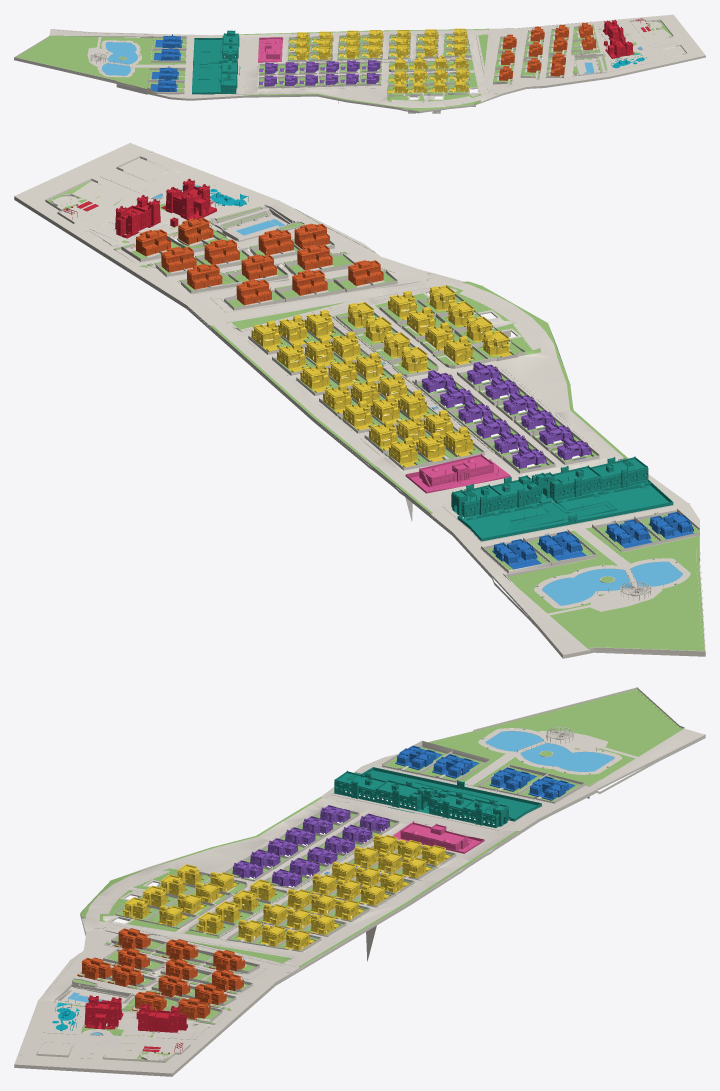
The model's file is Mirleft_AE_ZONING.glb.
3 renders of one model, top to bottom at view 1: azimuth 30°, elevation 25°; view 2: azimuth 150°, elevation 25°; view 3: azimuth 270°, elevation 25°, orthographic. The views are drawn at different scales.
Visible parts, largest first — view 1: MIRLEFT_T2_GROUND_STAIR, MIRLEFT_T1_GROUND, MIRLEFT_T4_POOL_PARK, MIRLEFT_T2_VILLAS_B, MIRLEFT_T3_HOTEL, MIRLEFT_T3_GROUND, MIRLEFT_T1_VILLAS_DUPLEX, MIRLEFT_T2_VILLAS_C, MIRLEFT_T3_VILLAS_A, MIRLEFT_T1_RESTAURANT_COMMERCES, MIRLEFT_T1_POOL_COURT, MIRLEFT_T2_SPA (+1 smaller); view 2: MIRLEFT_T2_GROUND_STAIR, MIRLEFT_T1_GROUND, MIRLEFT_T2_VILLAS_B, MIRLEFT_T4_POOL_PARK, MIRLEFT_T3_HOTEL, MIRLEFT_T1_VILLAS_DUPLEX, MIRLEFT_T2_VILLAS_C, MIRLEFT_T3_GROUND, MIRLEFT_T3_VILLAS_A, MIRLEFT_T1_RESTAURANT_COMMERCES, MIRLEFT_T2_SPA, MIRLEFT_T1_POOL_COURT; view 3: MIRLEFT_T2_GROUND_STAIR, MIRLEFT_T1_GROUND, MIRLEFT_T2_VILLAS_B, MIRLEFT_T4_POOL_PARK, MIRLEFT_T1_VILLAS_DUPLEX, MIRLEFT_T3_HOTEL, MIRLEFT_T3_GROUND, MIRLEFT_T2_VILLAS_C, MIRLEFT_T3_VILLAS_A, MIRLEFT_T1_RESTAURANT_COMMERCES, MIRLEFT_T2_SPA, MIRLEFT_T1_POOL_COURT.
Part boxes in pixels (x1=…): MIRLEFT_T2_GROUND_STAIR: x1=238, y1=28, x2=497, y2=113; MIRLEFT_T1_GROUND: x1=14, y1=14, x2=705, y2=113; MIRLEFT_T4_POOL_PARK: x1=14, y1=29, x2=153, y2=94; MIRLEFT_T2_VILLAS_B: x1=289, y1=28, x2=469, y2=93; MIRLEFT_T3_HOTEL: x1=192, y1=30, x2=240, y2=94; MIRLEFT_T3_GROUND: x1=147, y1=34, x2=247, y2=99; MIRLEFT_T1_VILLAS_DUPLEX: x1=499, y1=23, x2=596, y2=80; MIRLEFT_T2_VILLAS_C: x1=259, y1=60, x2=380, y2=86; MIRLEFT_T3_VILLAS_A: x1=150, y1=34, x2=182, y2=91; MIRLEFT_T1_RESTAURANT_COMMERCES: x1=603, y1=18, x2=650, y2=58; MIRLEFT_T1_POOL_COURT: x1=573, y1=53, x2=607, y2=75; MIRLEFT_T2_SPA: x1=258, y1=37, x2=282, y2=62; MIRLEFT_T2_GROUND_STAIR: x1=210, y1=273, x2=628, y2=521; MIRLEFT_T1_GROUND: x1=14, y1=142, x2=705, y2=658; MIRLEFT_T2_VILLAS_B: x1=251, y1=285, x2=512, y2=467; MIRLEFT_T4_POOL_PARK: x1=493, y1=535, x2=705, y2=656; MIRLEFT_T3_HOTEL: x1=451, y1=456, x2=673, y2=541; MIRLEFT_T1_VILLAS_DUPLEX: x1=131, y1=218, x2=383, y2=305; MIRLEFT_T2_VILLAS_C: x1=421, y1=362, x2=591, y2=468; MIRLEFT_T3_GROUND: x1=406, y1=474, x2=699, y2=576; MIRLEFT_T3_VILLAS_A: x1=492, y1=512, x2=693, y2=569; MIRLEFT_T1_RESTAURANT_COMMERCES: x1=61, y1=178, x2=216, y2=238; MIRLEFT_T2_SPA: x1=405, y1=453, x2=510, y2=493; MIRLEFT_T1_POOL_COURT: x1=208, y1=204, x2=304, y2=241; MIRLEFT_T2_GROUND_STAIR: x1=80, y1=797, x2=519, y2=968; MIRLEFT_T1_GROUND: x1=14, y1=736, x2=705, y2=1076; MIRLEFT_T2_VILLAS_B: x1=122, y1=834, x2=450, y2=950; MIRLEFT_T4_POOL_PARK: x1=428, y1=687, x2=705, y2=798; MIRLEFT_T1_VILLAS_DUPLEX: x1=77, y1=928, x2=244, y2=1019; MIRLEFT_T3_HOTEL: x1=333, y1=767, x2=541, y2=827; MIRLEFT_T3_GROUND: x1=321, y1=740, x2=597, y2=846; MIRLEFT_T2_VILLAS_C: x1=232, y1=805, x2=389, y2=887; MIRLEFT_T3_VILLAS_A: x1=395, y1=745, x2=575, y2=800; MIRLEFT_T1_RESTAURANT_COMMERCES: x1=84, y1=995, x2=187, y2=1053; MIRLEFT_T2_SPA: x1=392, y1=821, x2=484, y2=853; MIRLEFT_T1_POOL_COURT: x1=54, y1=978, x2=133, y2=1006.
Bounding box in the file's own units: 580 × 81.11 × 406.
